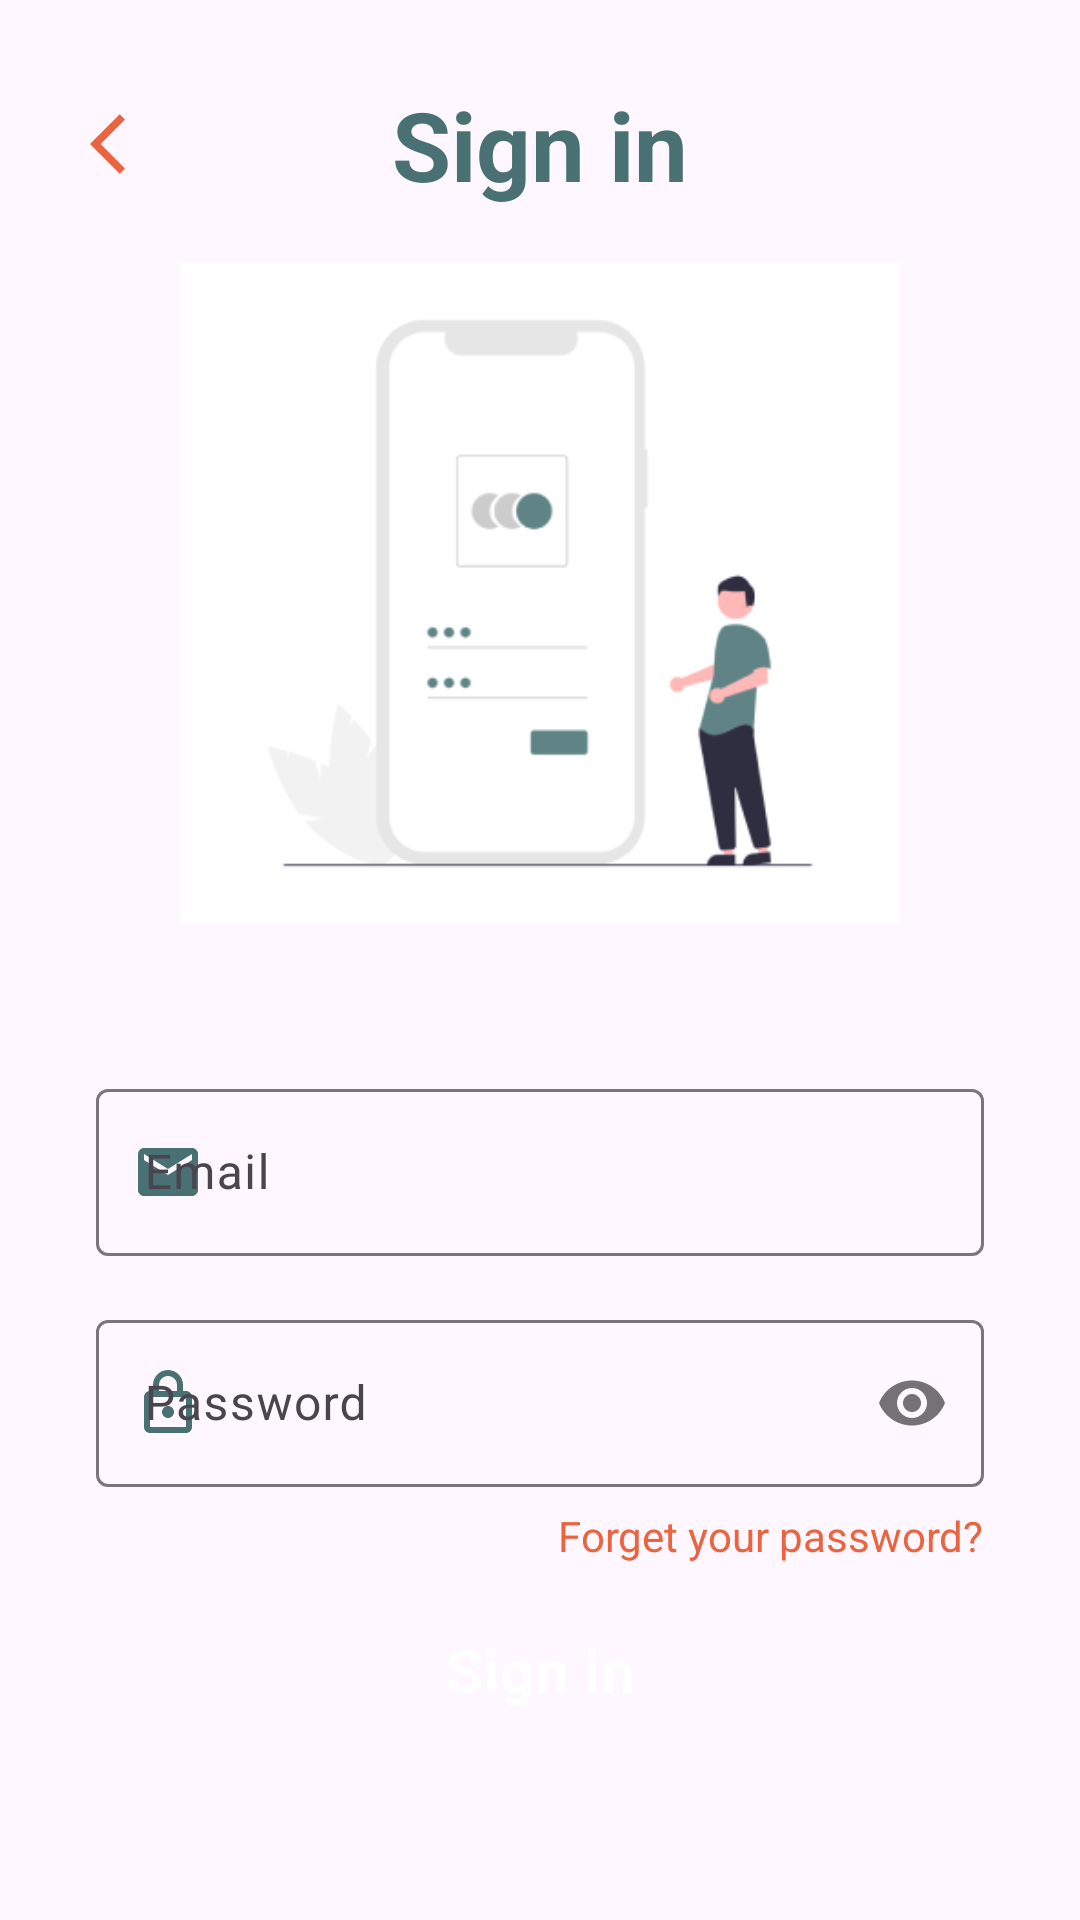

Point at icon controls on the screen. Image size 1080 × 1920, points as point (x, y).
back arrow: point (107, 144)
